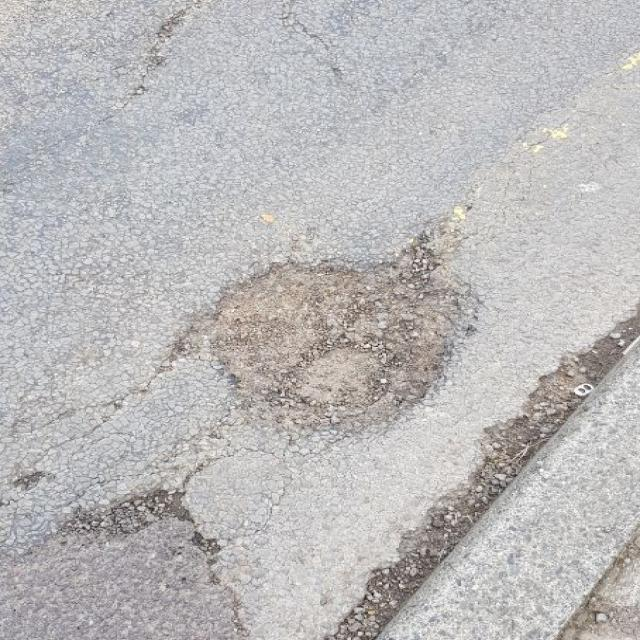Pothole: (157, 218, 489, 437)
